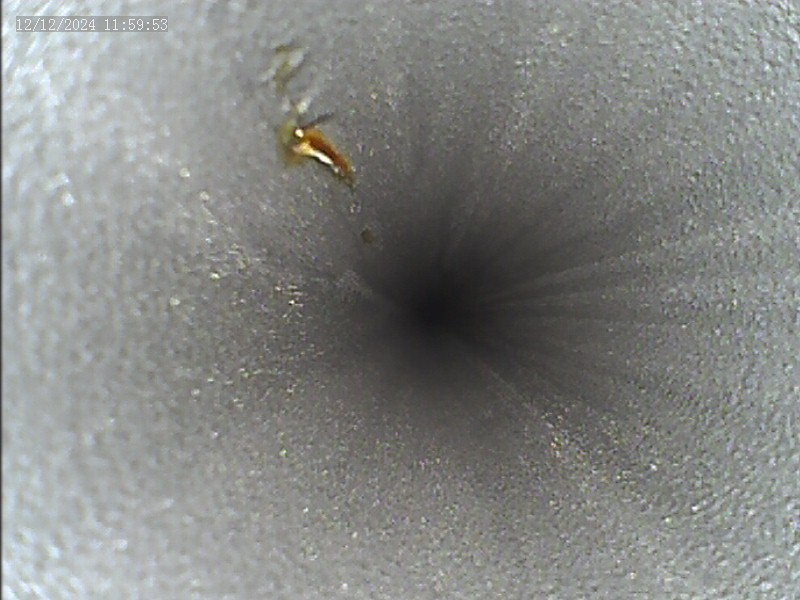defective_area: (278, 40, 388, 244)
